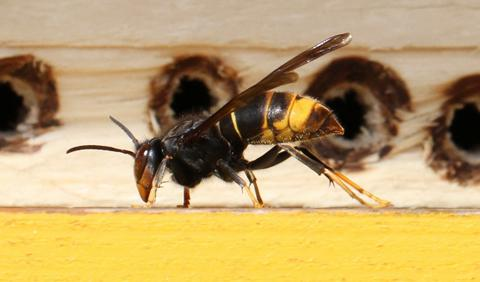hornet: (116, 29, 394, 210)
